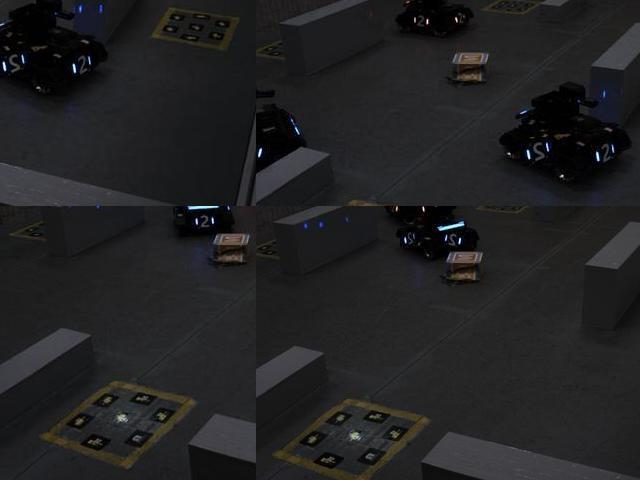armor: (0, 46, 31, 79), (523, 137, 553, 167), (591, 140, 619, 168), (70, 51, 95, 79), (440, 232, 469, 251), (256, 134, 271, 167), (190, 212, 218, 229), (410, 10, 431, 30), (401, 228, 423, 247), (448, 9, 469, 26), (387, 206, 403, 218)
